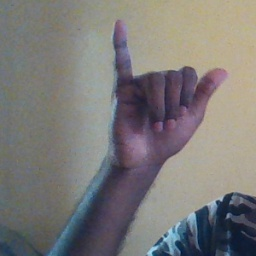J: (105, 20, 231, 167)
